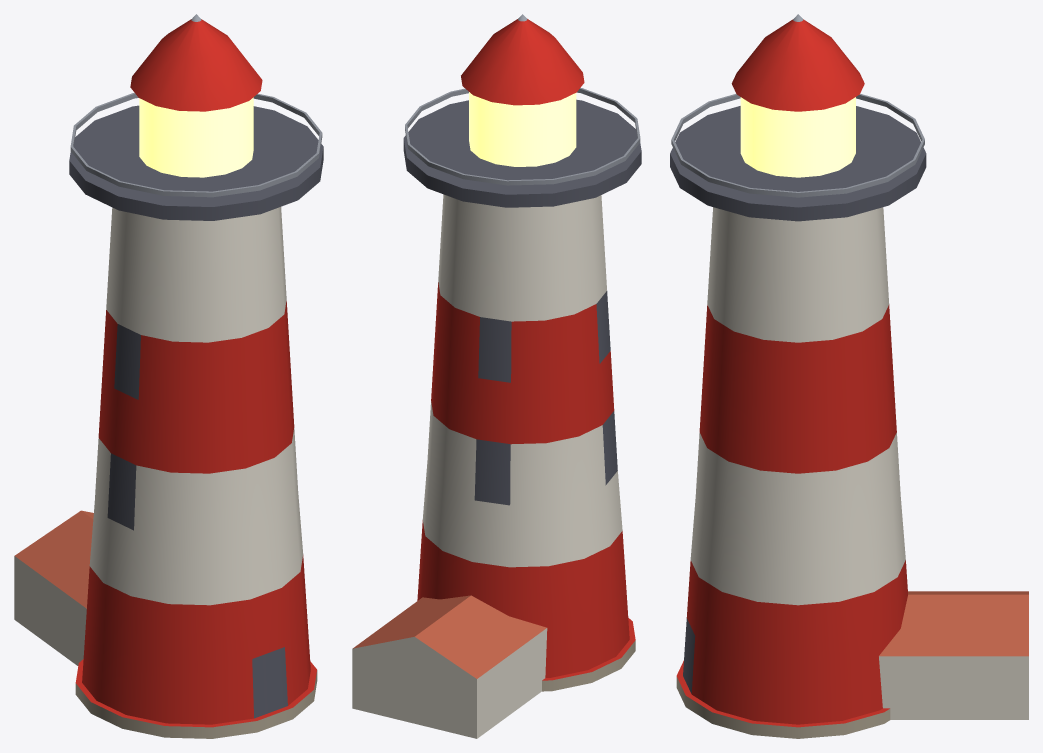
File: Kit_Lighthouse.glb
3 views of the same model, side by side, from view 1: azimuth 30°, elevation 25°; view 2: azimuth 150°, elevation 25°; view 3: azimuth 270°, elevation 25° (orthographic). The views are drawn at different scales.
Parts seen in each view (by area): view 1: Kit_Lighthouse; view 2: Kit_Lighthouse; view 3: Kit_Lighthouse.
Boxes of the visible parts, bbox=[...] form: Kit_Lighthouse: bbox=[14, 14, 323, 738]; Kit_Lighthouse: bbox=[352, 14, 641, 738]; Kit_Lighthouse: bbox=[670, 14, 1028, 738].
Size of the model in its own units: 20 by 58 by 28.
